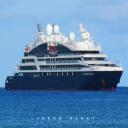cruises: (5, 16, 125, 96)
